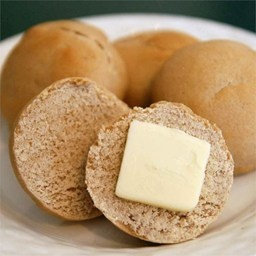background: (0, 6, 102, 98)
